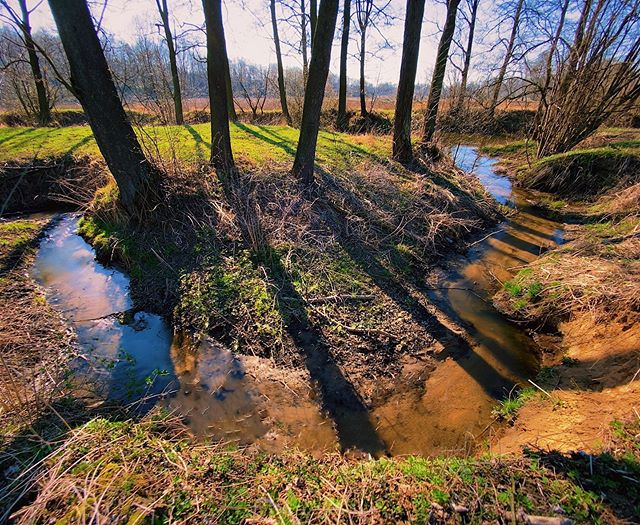river: (19, 152, 570, 451)
tree: (1, 1, 200, 222), (131, 1, 283, 186), (509, 1, 640, 176), (257, 1, 372, 197), (364, 1, 470, 201)
vegetation: (127, 103, 498, 348)
